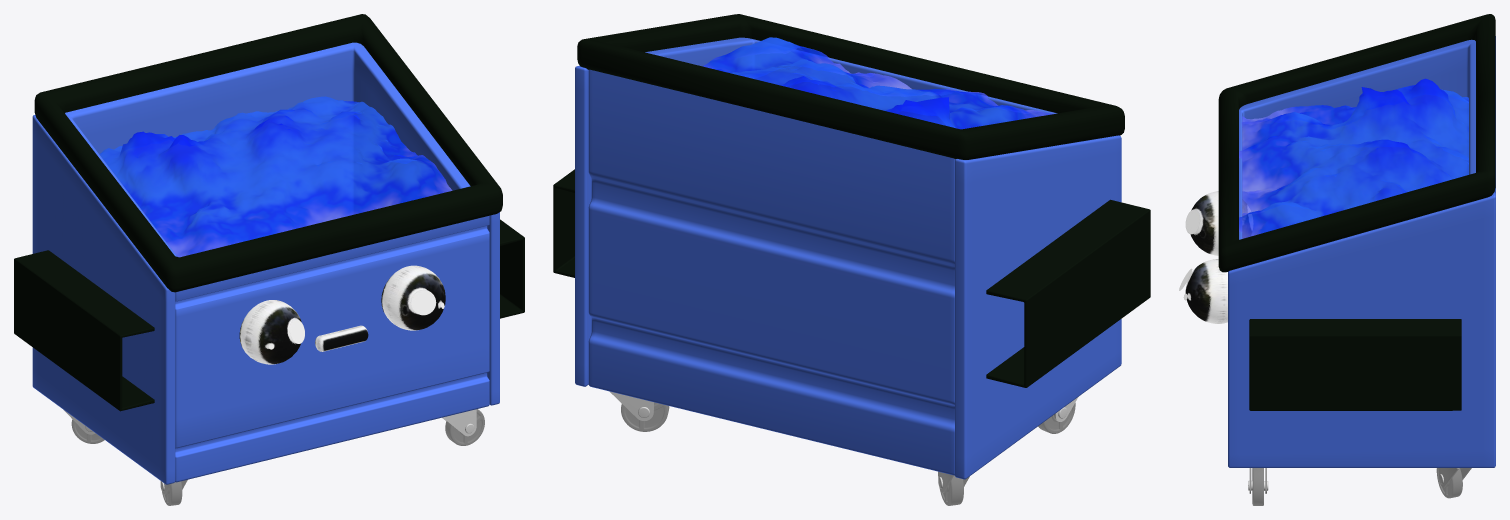
3 renders of one model, left to right at view 1: azimuth 30°, elevation 25°; view 2: azimuth 150°, elevation 25°; view 3: azimuth 270°, elevation 25°, orthographic. The views are drawn at different scales.
Visible parts, largest first — view 1: Dumpster Geometry, Explosion Fire Base.002, Wheel Holder; view 2: Dumpster Geometry, Explosion Fire Base.002, Wheel Holder; view 3: Dumpster Geometry, Explosion Fire Base.002, Wheel Holder.
Part boxes in pixels (x1,y1,x2,y2): Dumpster Geometry: (14,14,524,505); Explosion Fire Base.002: (99,96,452,257); Wheel Holder: (64,409,476,494); Dumpster Geometry: (553,14,1150,505); Explosion Fire Base.002: (703,37,1053,129); Wheel Holder: (609,391,1078,492); Dumpster Geometry: (1179,14,1495,505); Explosion Fire Base.002: (1239,78,1468,238); Wheel Holder: (1248,468,1471,493).
Size of what is drawn, in the model's own units: 2.3 by 1.85 by 1.56.
Materials: 7 (3 with a texture image).
